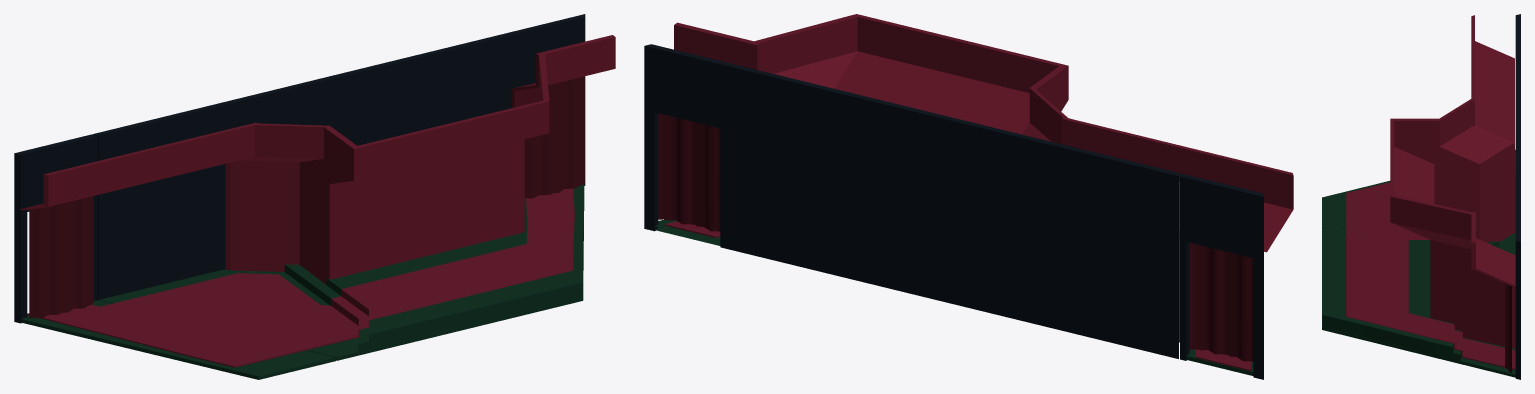
Rendered from MDL_Screeningroom_01.fbx.
The picture shows the model from 3 angles, left to right: view 1: azimuth 30°, elevation 25°; view 2: azimuth 150°, elevation 25°; view 3: azimuth 270°, elevation 25°; orthographic projection. The views are drawn at different scales.
Visible parts, largest first — view 1: MDL_Screenroom_Wall_02, MDL_Screenroom_Wall_01, MDL_Screenroom_Carpet, MDL_Screenroom_Stairs_01, MDL_Door_Curtains_01, MDL_Door_Curtains_02, MDL_Screenroom_Ex_Wall, MDL_Screenroom_Floor, MDL_Screenroom_Ex; view 2: MDL_Screenroom_Wall_01, MDL_Screenroom_Wall_02, MDL_Screenroom_Ex_Wall, MDL_Door_Curtains_01, MDL_Door_Curtains_02, MDL_Screenroom_Carpet, MDL_Screenroom_Floor; view 3: MDL_Screenroom_Wall_02, MDL_Screenroom_Carpet, MDL_Screenroom_Stairs_01, MDL_Screenroom_Wall_01, MDL_Screenroom_Floor, MDL_Screenroom_Ex, MDL_Door_Curtains_02, MDL_Screenroom_Ex_Wall.
Boxes of the visible parts, <box> form: MDL_Screenroom_Wall_02: <box>19,35,615,284</box>; MDL_Screenroom_Wall_01: <box>92,14,585,300</box>; MDL_Screenroom_Carpet: <box>27,188,574,367</box>; MDL_Screenroom_Stairs_01: <box>284,204,583,351</box>; MDL_Door_Curtains_01: <box>29,196,93,318</box>; MDL_Door_Curtains_02: <box>524,76,584,198</box>; MDL_Screenroom_Ex_Wall: <box>14,134,97,323</box>; MDL_Screenroom_Floor: <box>99,183,584,360</box>; MDL_Screenroom_Ex: <box>20,300,335,379</box>; MDL_Screenroom_Wall_01: <box>644,44,1178,358</box>; MDL_Screenroom_Wall_02: <box>674,14,1293,252</box>; MDL_Screenroom_Ex_Wall: <box>1180,173,1263,379</box>; MDL_Door_Curtains_01: <box>1189,243,1253,361</box>; MDL_Door_Curtains_02: <box>658,113,720,231</box>; MDL_Screenroom_Carpet: <box>664,221,1251,371</box>; MDL_Screenroom_Floor: <box>655,219,720,245</box>; MDL_Screenroom_Wall_02: <box>1390,15,1515,348</box>; MDL_Screenroom_Carpet: <box>1346,153,1515,369</box>; MDL_Screenroom_Stairs_01: <box>1322,229,1498,360</box>; MDL_Screenroom_Wall_01: <box>1515,45,1520,379</box>; MDL_Screenroom_Floor: <box>1322,181,1515,377</box>; MDL_Screenroom_Ex: <box>1322,150,1515,228</box>; MDL_Door_Curtains_02: <box>1505,283,1511,372</box>; MDL_Screenroom_Ex_Wall: <box>1515,14,1520,46</box>.
Size of the model in its own units: 1200 by 339 by 443.
